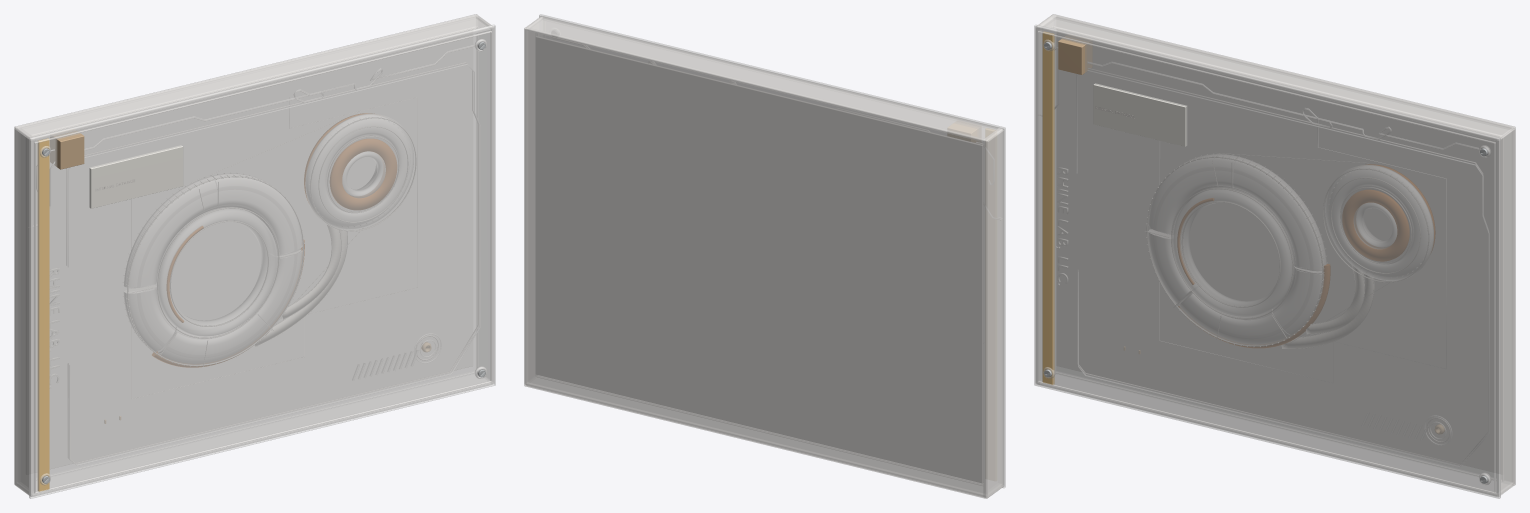
Rendered from assembly-before.glb.
3 renders of one model, left to right at view 1: azimuth 30°, elevation 25°; view 2: azimuth 150°, elevation 25°; view 3: azimuth 330°, elevation 25°, orthographic.
Parts seen in each view (by area): view 1: cover__Frosted_Polymer.002, substrate__Optical_Diffuser.002, carrier__Ivory_Edges.002, optical-lenses__Optical_Edges.002, cover__Amber_Lightguide.002, optical-core__Subsurface_Optics.002, cover__Printed_Label.002, optical-lenses__Optical_Film_Edge, optical-core__Amber_Optical_Inlay, cover__Optical_Edges.002, cover__Internal_Ceramic.002, carrier__Optical_Edges.002 (+3 smaller); view 2: carrier__Ivory_Edges.002, substrate__Optical_Diffuser.002, cover__Frosted_Polymer.002, carrier__Optical_Edges.002; view 3: cover__Frosted_Polymer.002, substrate__Optical_Diffuser.002, carrier__Ivory_Edges.002, optical-lenses__Optical_Edges.002, cover__Amber_Lightguide.002, optical-core__Subsurface_Optics.002, cover__Printed_Label.002, optical-core__Amber_Optical_Inlay, optical-lenses__Optical_Film_Edge, cover__Optical_Edges.002, carrier__Optical_Edges.002, optical-lenses__Optical_Film (+3 smaller).
Part boxes in pixels (x1=…): cover__Frosted_Polymer.002: x1=29, y1=24, x2=495, y2=498; substrate__Optical_Diffuser.002: x1=33, y1=29, x2=472, y2=472; carrier__Ivory_Edges.002: x1=14, y1=14, x2=493, y2=496; optical-lenses__Optical_Edges.002: x1=126, y1=114, x2=413, y2=364; cover__Amber_Lightguide.002: x1=37, y1=138, x2=49, y2=491; optical-core__Subsurface_Optics.002: x1=124, y1=134, x2=398, y2=358; cover__Printed_Label.002: x1=89, y1=145, x2=183, y2=208; optical-lenses__Optical_Film_Edge: x1=127, y1=117, x2=416, y2=366; optical-core__Amber_Optical_Inlay: x1=152, y1=113, x2=396, y2=367; cover__Optical_Edges.002: x1=36, y1=45, x2=480, y2=465; cover__Internal_Ceramic.002: x1=36, y1=46, x2=478, y2=463; carrier__Optical_Edges.002: x1=32, y1=26, x2=477, y2=479; carrier__Ivory_Edges.002: x1=524, y1=16, x2=1003, y2=498; substrate__Optical_Diffuser.002: x1=536, y1=36, x2=982, y2=482; cover__Frosted_Polymer.002: x1=539, y1=14, x2=1005, y2=488; carrier__Optical_Edges.002: x1=536, y1=33, x2=982, y2=485; cover__Frosted_Polymer.002: x1=1034, y1=24, x2=1500, y2=498; substrate__Optical_Diffuser.002: x1=1057, y1=29, x2=1501, y2=474; carrier__Ivory_Edges.002: x1=1036, y1=14, x2=1515, y2=496; optical-lenses__Optical_Edges.002: x1=1148, y1=156, x2=1433, y2=345; cover__Amber_Lightguide.002: x1=1042, y1=31, x2=1054, y2=384; optical-core__Subsurface_Optics.002: x1=1149, y1=154, x2=1413, y2=339; cover__Printed_Label.002: x1=1093, y1=83, x2=1187, y2=146; optical-core__Amber_Optical_Inlay: x1=1177, y1=164, x2=1435, y2=347; optical-lenses__Optical_Film_Edge: x1=1145, y1=153, x2=1428, y2=348; cover__Optical_Edges.002: x1=1055, y1=62, x2=1489, y2=466; carrier__Optical_Edges.002: x1=1052, y1=26, x2=1503, y2=481; optical-lenses__Optical_Film: x1=1281, y1=266, x2=1373, y2=348.
Bounding box in the file's own units: 5 × 3.7 × 0.392.
